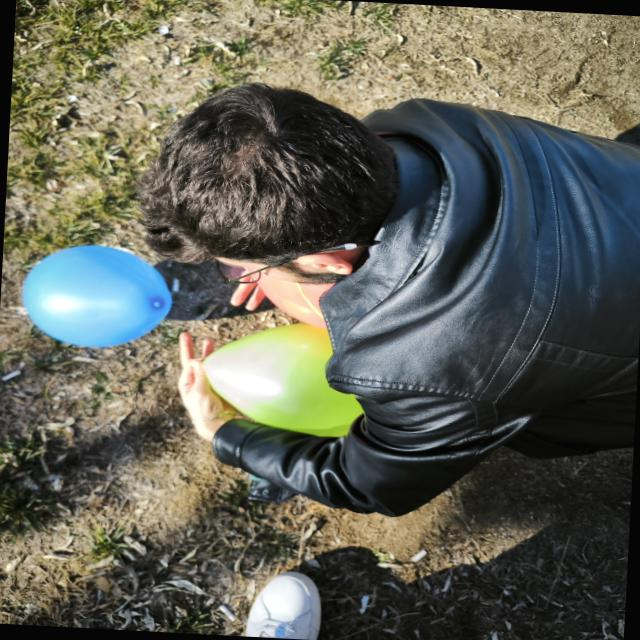balloon: (204, 323, 362, 437), (23, 245, 172, 347)
